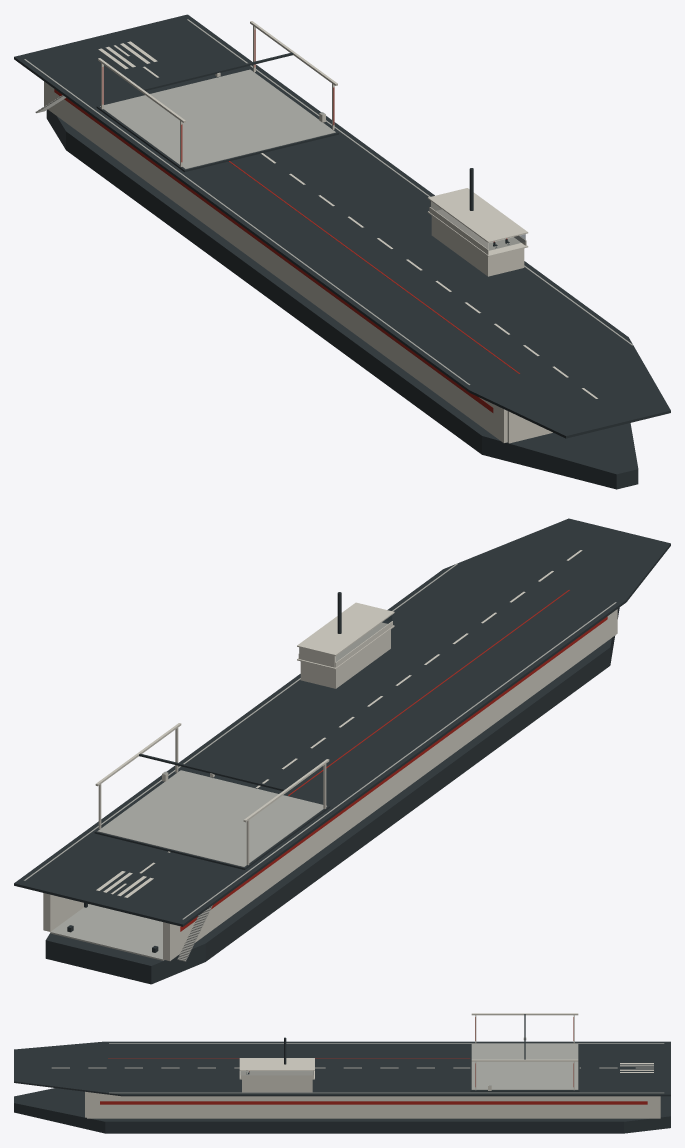
3 renders of one model, top to bottom at view 1: azimuth 30°, elevation 25°; view 2: azimuth 150°, elevation 25°; view 3: azimuth 270°, elevation 25°, orthographic. The views are drawn at different scales.
Parts seen in each view (by area): view 1: carrier-flight-deck-painted, aircraft-carrier-fleet-machine, aircraft-carrier-fleet-armor, deck-printer--aircraft-printer-painted, aircraft-carrier-fleet-red; view 2: carrier-flight-deck-painted, aircraft-carrier-fleet-armor, aircraft-carrier-fleet-machine, deck-printer--aircraft-printer-painted, aircraft-carrier-fleet-edge, aircraft-carrier-fleet-red; view 3: carrier-flight-deck-painted, aircraft-carrier-fleet-armor, aircraft-carrier-fleet-machine, deck-printer--aircraft-printer-painted, aircraft-carrier-fleet-red, aircraft-carrier-fleet-glass.
Boxes of the visible parts, left/top/right/bottom form: carrier-flight-deck-painted: left=14, top=14, right=670, bottom=438; aircraft-carrier-fleet-machine: left=46, top=109, right=638, bottom=489; aircraft-carrier-fleet-armor: left=44, top=81, right=552, bottom=443; deck-printer--aircraft-printer-painted: left=96, top=21, right=338, bottom=172; aircraft-carrier-fleet-red: left=54, top=89, right=493, bottom=412; carrier-flight-deck-painted: left=14, top=518, right=670, bottom=926; aircraft-carrier-fleet-armor: left=43, top=602, right=617, bottom=960; aircraft-carrier-fleet-machine: left=45, top=592, right=619, bottom=984; deck-printer--aircraft-printer-painted: left=94, top=723, right=330, bottom=869; aircraft-carrier-fleet-edge: left=50, top=904, right=212, bottom=961; aircraft-carrier-fleet-red: left=180, top=616, right=607, bottom=931; carrier-flight-deck-painted: left=14, top=1041, right=670, bottom=1096; aircraft-carrier-fleet-armor: left=85, top=1058, right=660, bottom=1118; aircraft-carrier-fleet-machine: left=14, top=1037, right=670, bottom=1133; deck-printer--aircraft-printer-painted: left=470, top=1013, right=579, bottom=1091; aircraft-carrier-fleet-red: left=100, top=1101, right=647, bottom=1104; aircraft-carrier-fleet-glass: left=240, top=1071, right=313, bottom=1074.
Size of the model in its own units: 253 by 205 by 1326.
